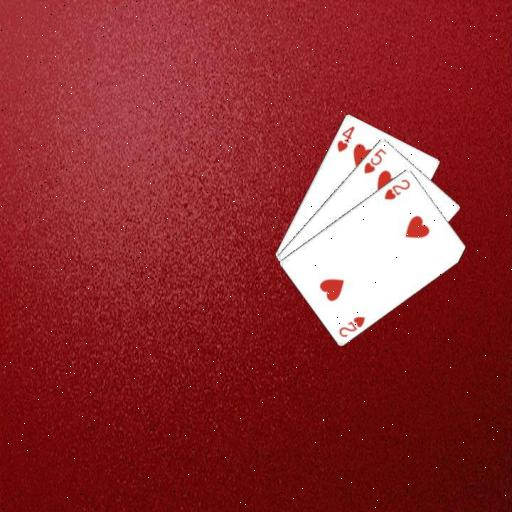2H: (336, 313, 368, 339), (382, 176, 412, 202)
4H: (334, 122, 357, 154)
5H: (361, 145, 388, 175)
